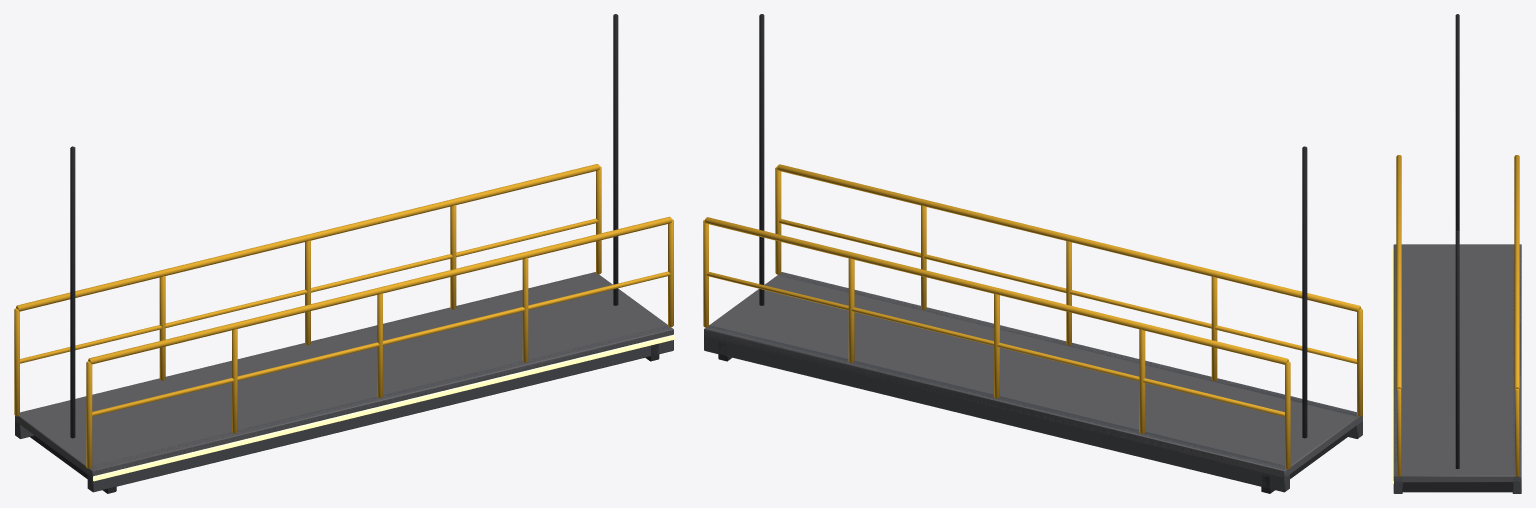
Rendered from Catwalk.glb.
3 views of the same model, side by side, from view 1: azimuth 30°, elevation 25°; view 2: azimuth 150°, elevation 25°; view 3: azimuth 270°, elevation 25° (orthographic). The views are drawn at different scales.
Parts seen in each view (by area): view 1: Catwalk; view 2: Catwalk; view 3: Catwalk.
Part boxes in pixels (left/top/right/bottom): Catwalk: left=14, top=14, right=674, bottom=493; Catwalk: left=703, top=14, right=1363, bottom=493; Catwalk: left=1392, top=14, right=1521, bottom=493.
Size of the model in its own units: 6.05 by 3.13 by 1.41.
